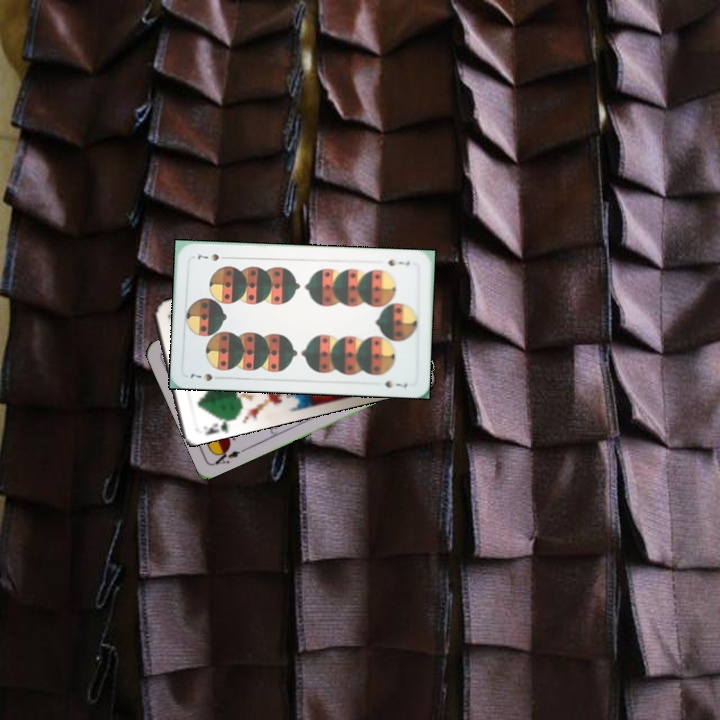EA: (210, 444, 248, 468)
GK: (199, 414, 234, 437)
S7: (186, 369, 215, 384), (384, 256, 412, 269)
